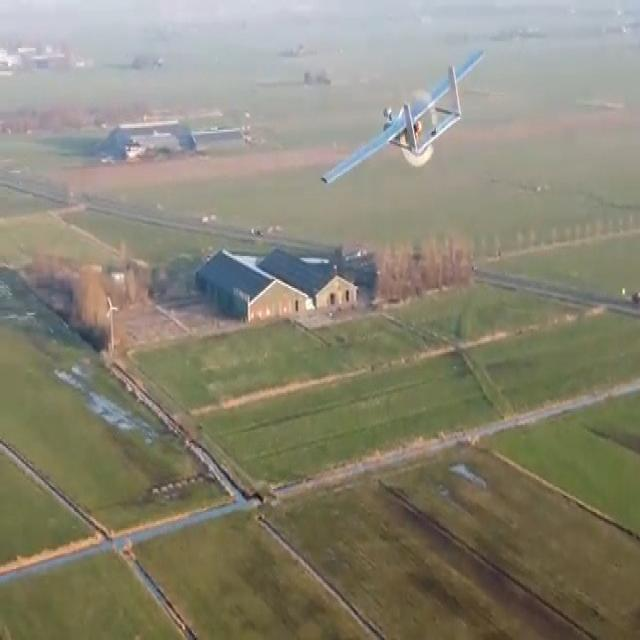iha: (314, 0, 492, 142)
